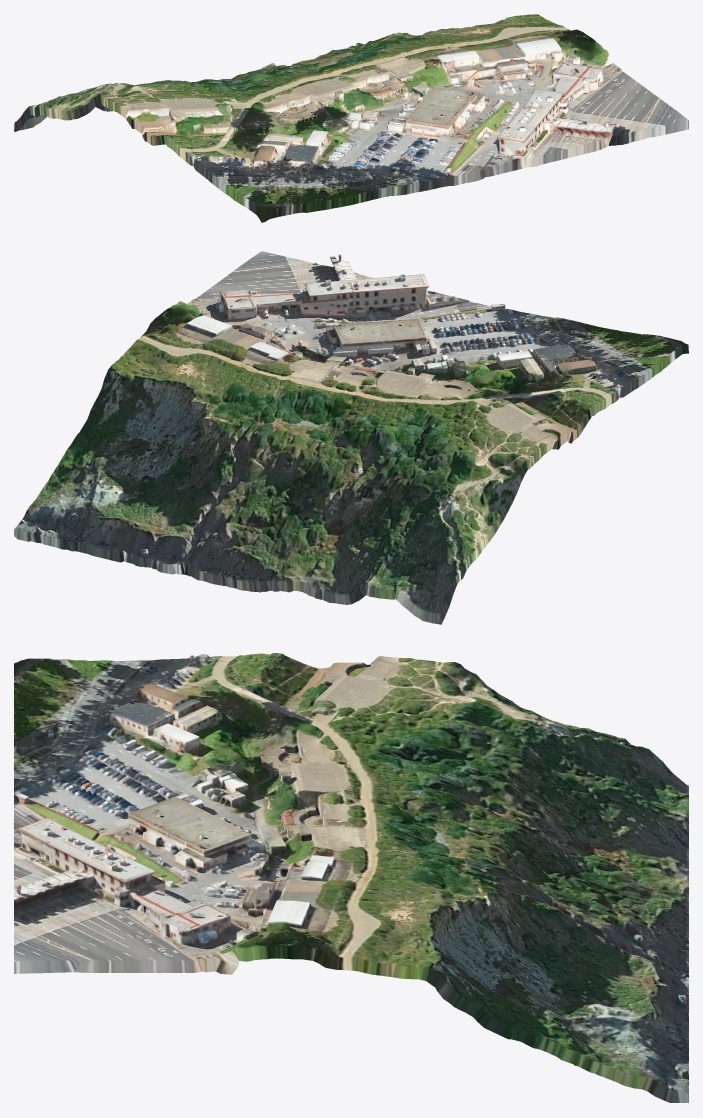
The model's file is z17-20943-50647-h0-yup-uvflip-v3-world.glb.
3 views of the same model, one above another, from view 1: azimuth 30°, elevation 25°; view 2: azimuth 150°, elevation 25°; view 3: azimuth 270°, elevation 25° (orthographic). The views are drawn at different scales.
Bounding box in the file's own units: 242 × 69.12 × 243.
Materials: 1 (1 with a texture image).
